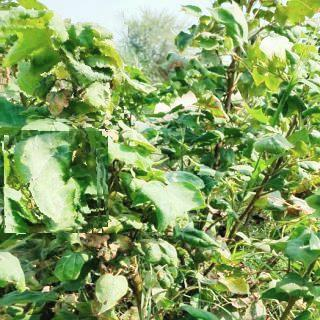curl: (0, 10, 124, 126), (4, 129, 108, 233)
